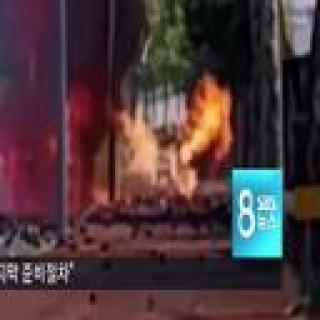fire: (122, 91, 240, 199)
